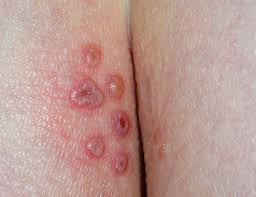herpes: (65, 46, 136, 181)
